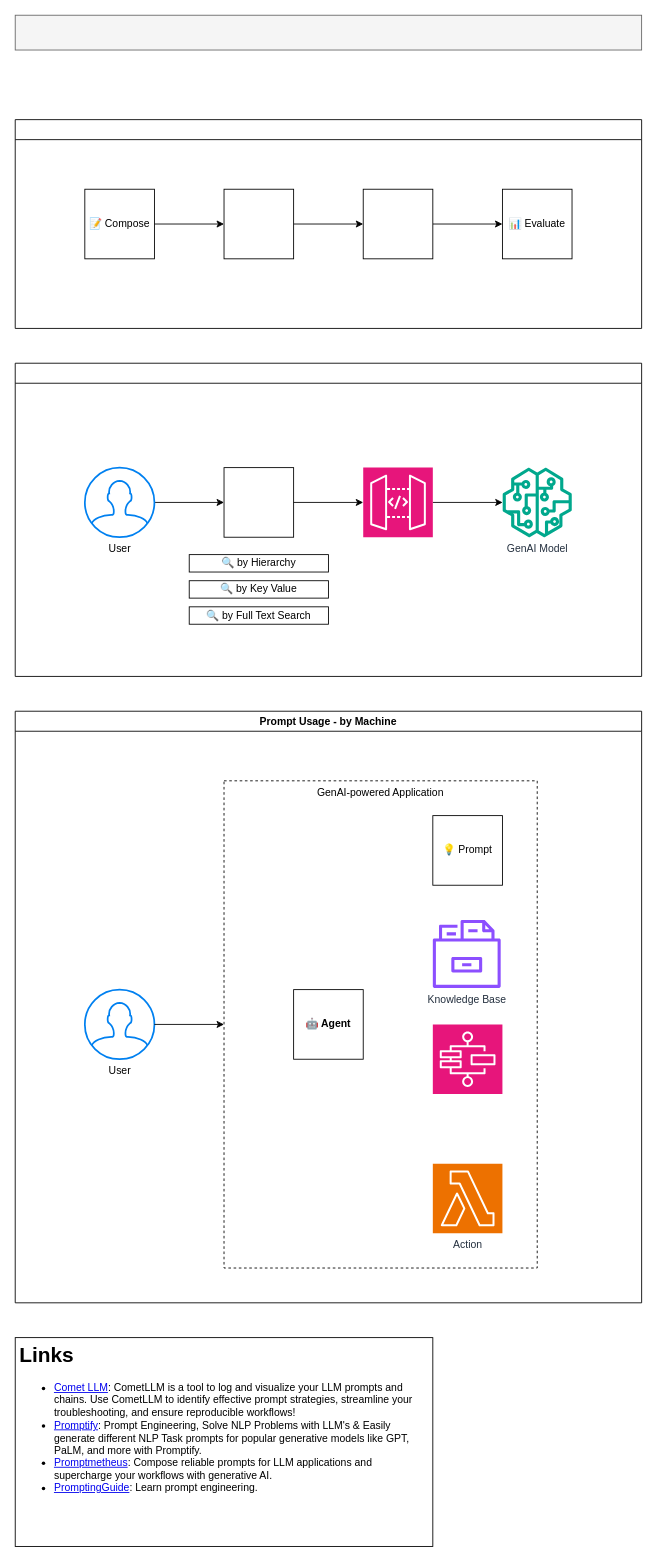
Some shapes in this 657 by 1562 pixel diagram are drawn without their labels. The shapes that lost their labels are listed below. From the top down, each one's box as (x1, y1, x2, y2) in pixels, then its label:
(14, 14, 642, 50): Enterprise Prompt Engineering Platform
(223, 188, 294, 259): 🧪 Test
(14, 119, 642, 328): Prompt IDE
(362, 188, 433, 259): 💾 Save
(223, 467, 294, 537): 🔍 Search
(14, 362, 642, 676): Prompt Usage - by Human
(362, 467, 433, 537): Foundation Model Proxy
(432, 1024, 502, 1094): Complicated Workflow
